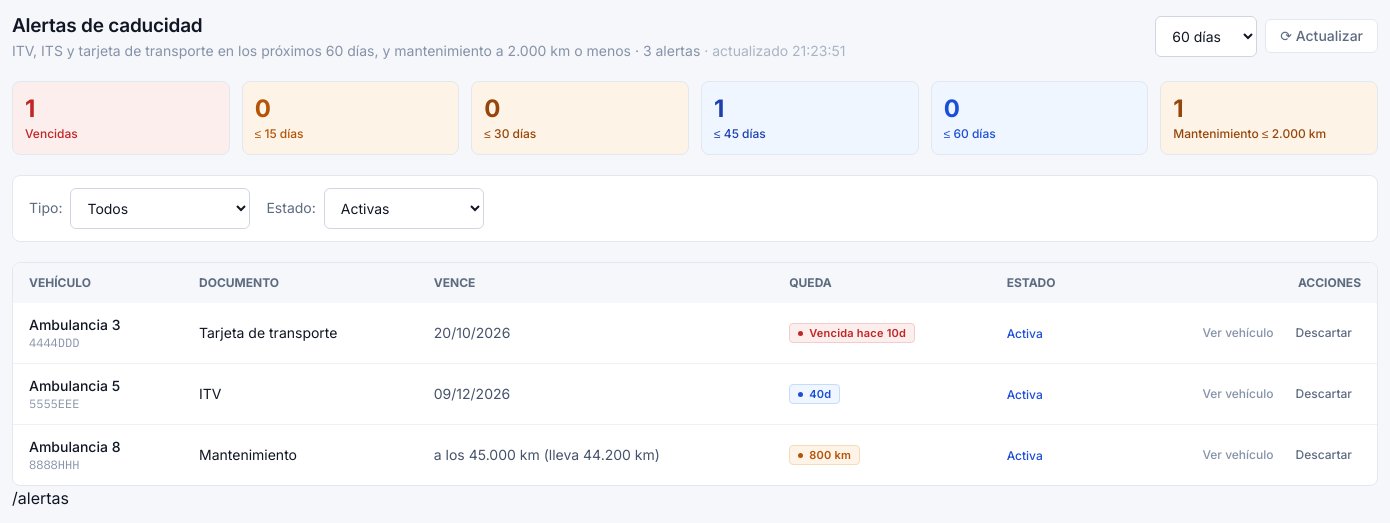
Test: AlertsPage · mantenimiento por km › su KPI filtra solo las de mantenimiento
Click the button "1 Mantenimiento ≤ 2.000 km" at (1269, 118), box [1160,80,1378,154]
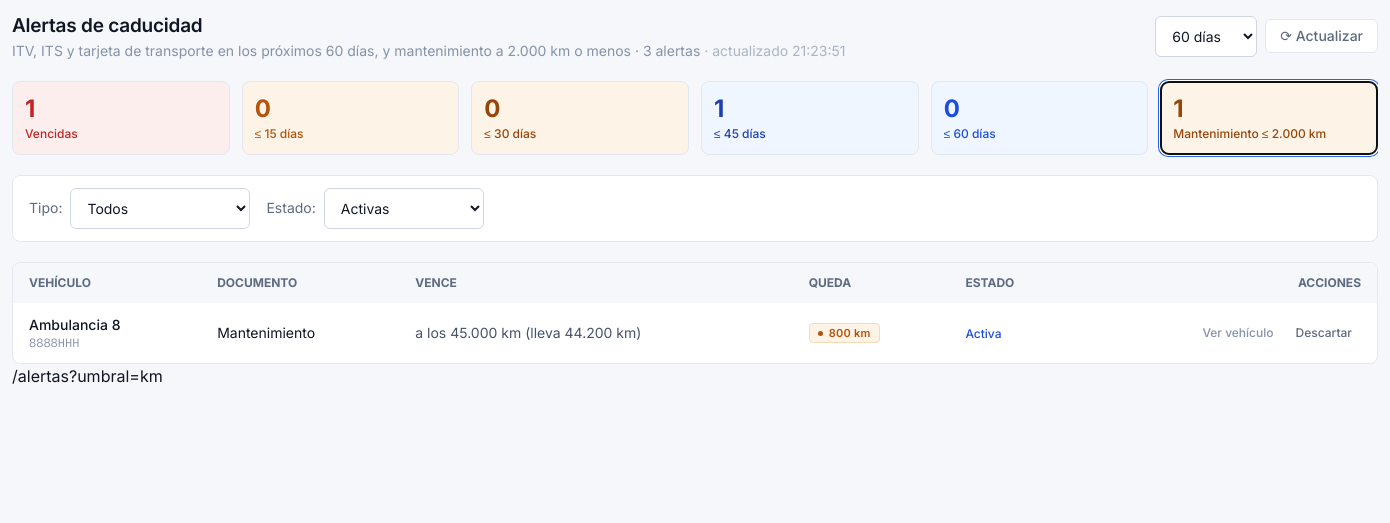
Expected: the text with test id "url" shows "umbral=km", [69,366,163,386]
Expected: the text "5555EEE" is gone
